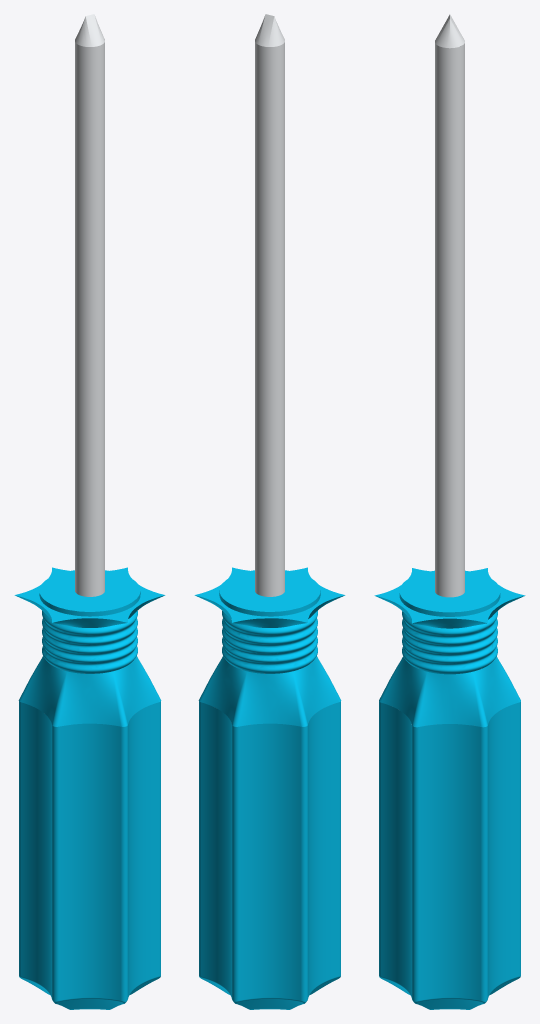
The model's file is Flathead Screwdriver.glb.
3 renders of one model, left to right at view 1: azimuth 30°, elevation 25°; view 2: azimuth 150°, elevation 25°; view 3: azimuth 270°, elevation 25°, orthographic.
Size of the model in its own units: 0.026 by 0.2146 by 0.03.
